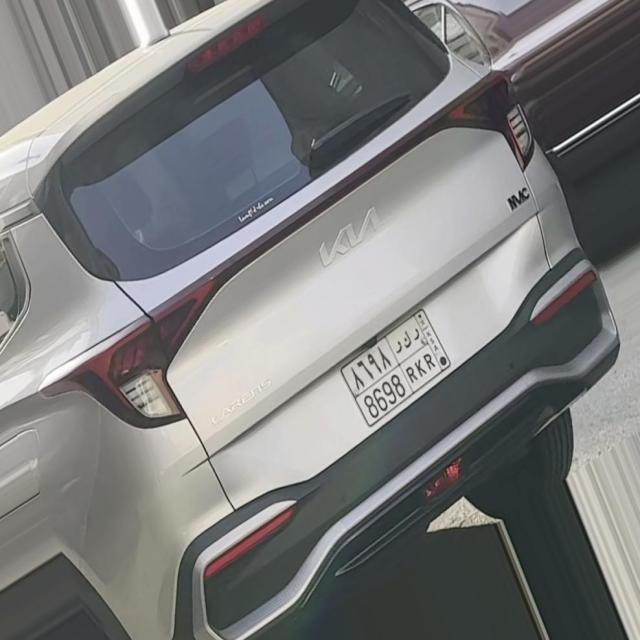Car-plate: (328, 290, 474, 437)
